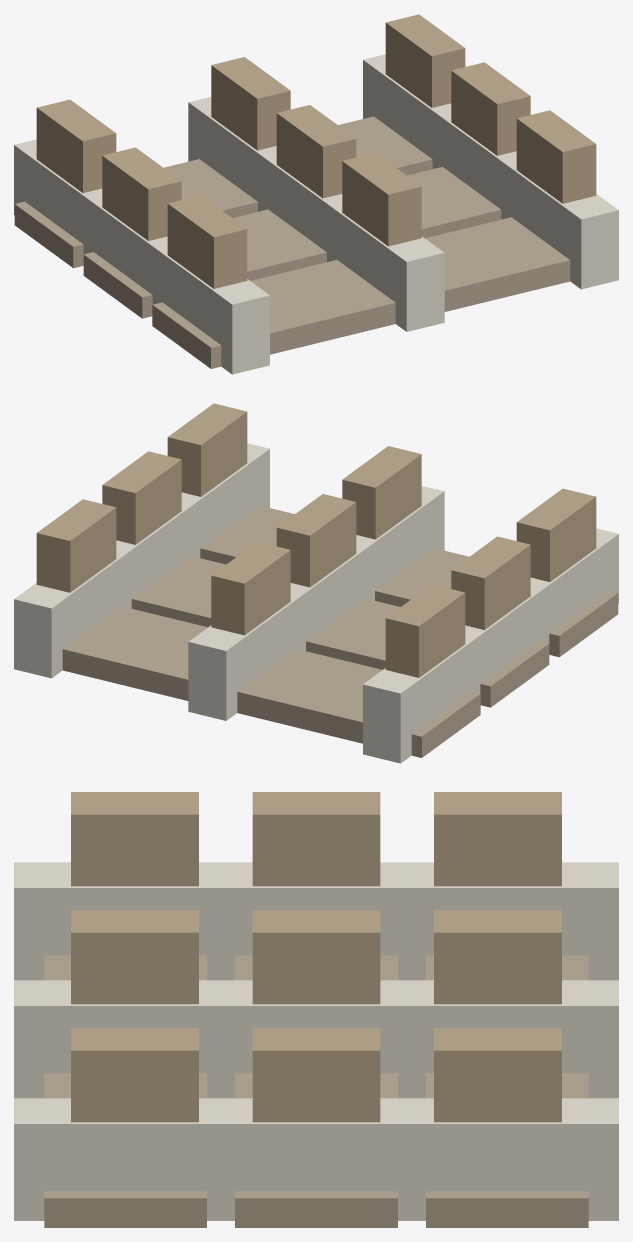
The model's file is three_mouth_sluice_far-D10lhTgG.glb.
The picture shows the model from 3 angles, top to bottom: view 1: azimuth 30°, elevation 25°; view 2: azimuth 150°, elevation 25°; view 3: azimuth 270°, elevation 25°; orthographic projection. The views are drawn at different scales.
Parts seen in each view (by area): view 1: three_mouth_sluice_far; view 2: three_mouth_sluice_far; view 3: three_mouth_sluice_far.
Part boxes in pixels (box(x1,y1,x2,y2)): three_mouth_sluice_far: box(14, 14, 618, 374); three_mouth_sluice_far: box(14, 403, 618, 763); three_mouth_sluice_far: box(14, 792, 618, 1227).
Size of the model in its own units: 14 by 4 by 13.
